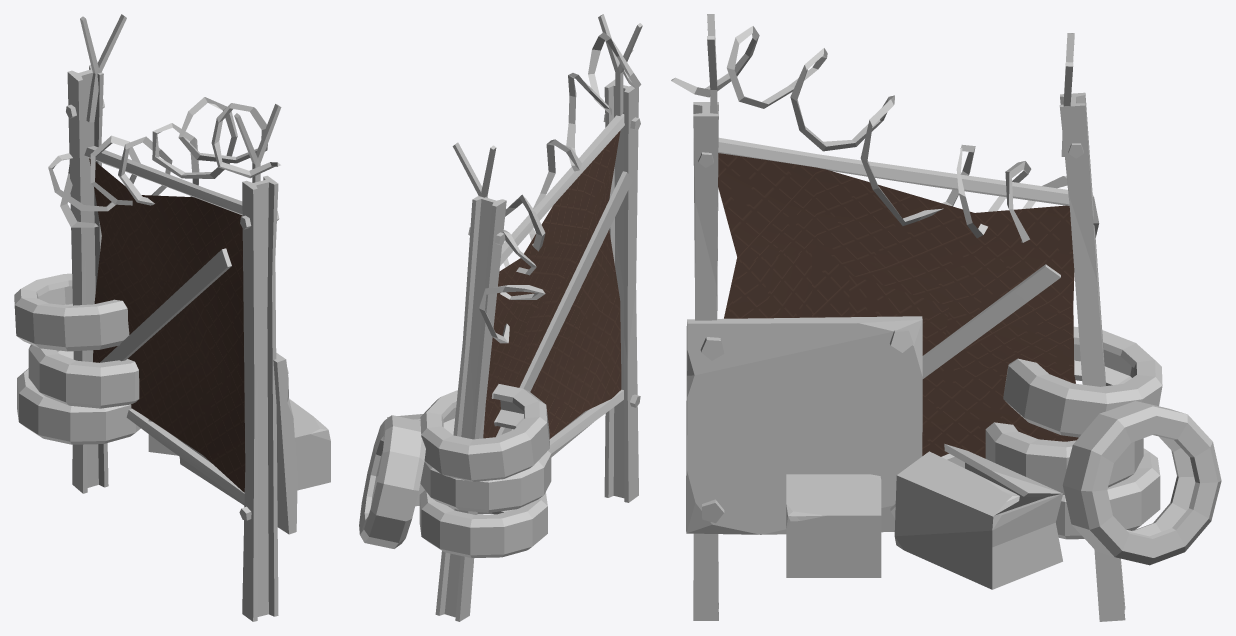
The model's file is SM_Prop_Wall_Junk_07.fbx.
The picture shows the model from 3 angles, left to right: view 1: azimuth 30°, elevation 25°; view 2: azimuth 150°, elevation 25°; view 3: azimuth 270°, elevation 25°; orthographic projection. The views are drawn at different scales.
Visible parts, largest first — view 1: SM_Prop_Wall_Junk_07; view 2: SM_Prop_Wall_Junk_07; view 3: SM_Prop_Wall_Junk_07.
Boxes of the visible parts, bbox=[...] form: SM_Prop_Wall_Junk_07: bbox=[14, 14, 330, 621]; SM_Prop_Wall_Junk_07: bbox=[359, 14, 642, 621]; SM_Prop_Wall_Junk_07: bbox=[671, 14, 1221, 621].
Bounding box in the file's own units: 139 × 333 × 282.
